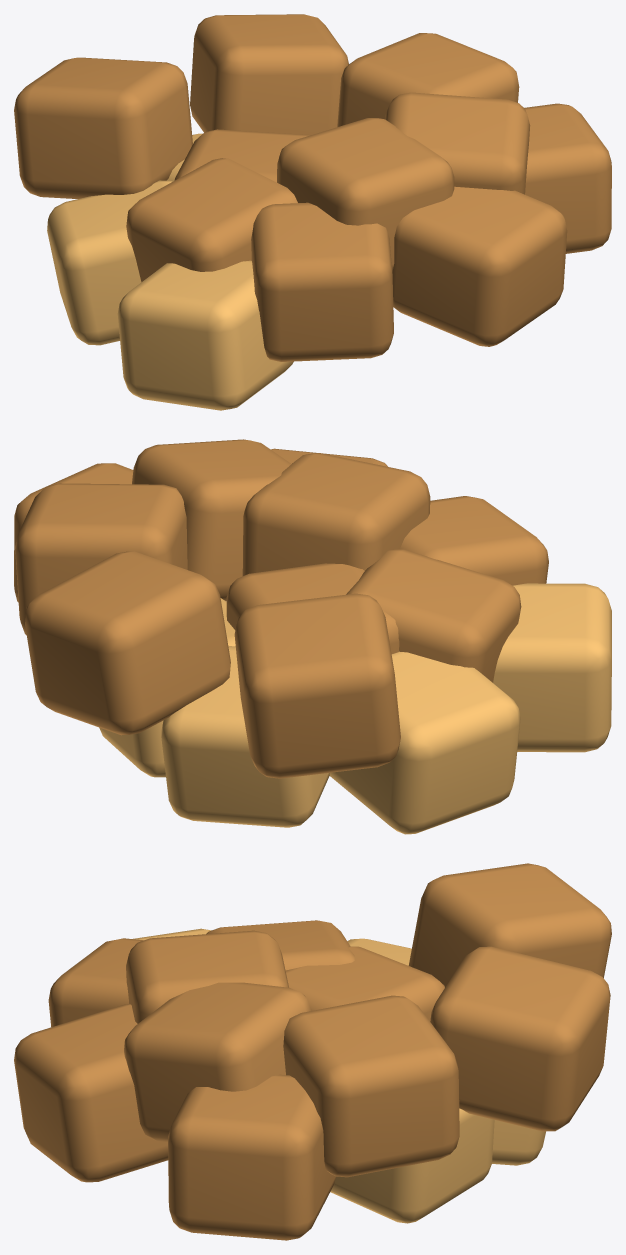
The model's file is croutons.glb.
3 views of the same model, one above another, from view 1: azimuth 30°, elevation 25°; view 2: azimuth 150°, elevation 25°; view 3: azimuth 270°, elevation 25° (orthographic). The views are drawn at different scales.
Visible parts, largest first — view 1: croutons_mesh; view 2: croutons_mesh; view 3: croutons_mesh.
Part boxes in pixels (bbox=[...]): croutons_mesh: bbox=[14, 14, 611, 410]; croutons_mesh: bbox=[14, 439, 611, 834]; croutons_mesh: bbox=[14, 863, 611, 1240].
Size of the model in its own units: 0.2084 by 0.0831 by 0.2.
